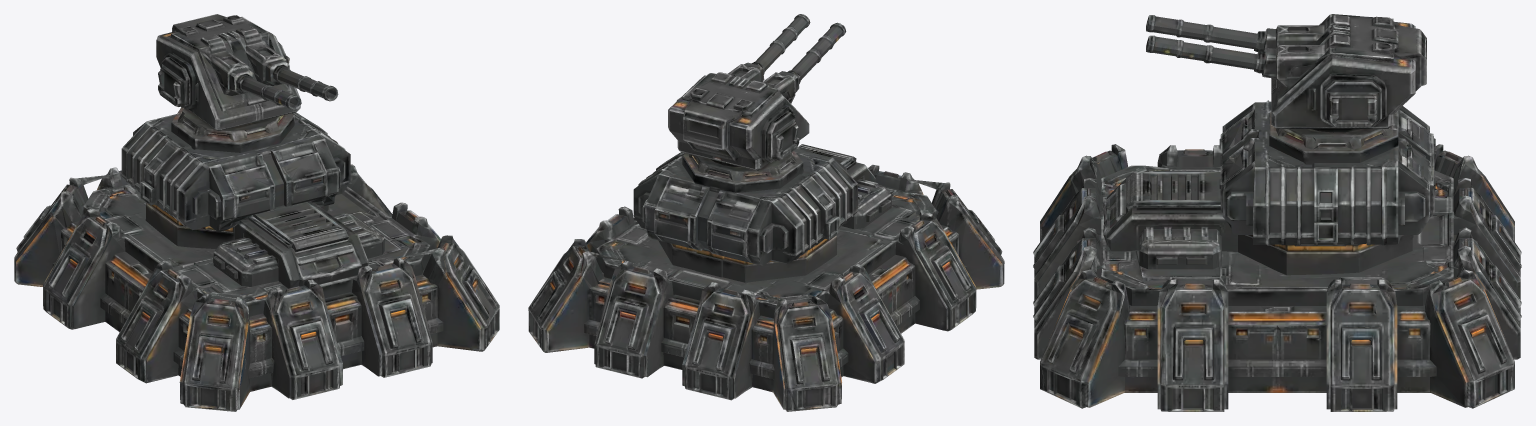
File: bastion_LOD0.glb
3 views of the same model, side by side, from view 1: azimuth 30°, elevation 25°; view 2: azimuth 150°, elevation 25°; view 3: azimuth 270°, elevation 25° (orthographic). The views are drawn at different scales.
Visible parts, largest first — view 1: bastion_LOD0; view 2: bastion_LOD0; view 3: bastion_LOD0.
Boxes of the visible parts, x1,y1,x2,y2 form: bastion_LOD0: (14,14,499,411); bastion_LOD0: (528,14,1004,411); bastion_LOD0: (1033,14,1521,411).
Bounding box in the file's own units: 0.8884 × 0.6581 × 0.989.
Materials: 1 (1 with a texture image).
